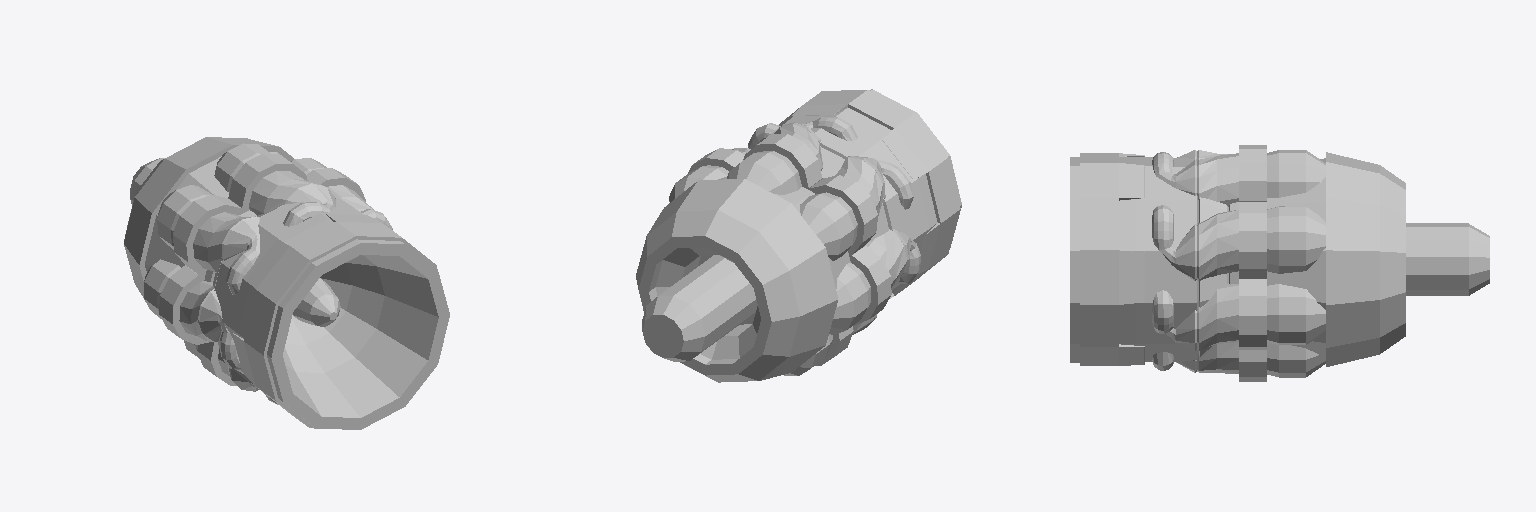
The model's file is Thruster.obj.
The picture shows the model from 3 angles: view 1: azimuth 30°, elevation 25°; view 2: azimuth 150°, elevation 25°; view 3: azimuth 270°, elevation 25°; orthographic projection.
Visible parts, largest first — view 1: eng.onion_Cylinder.004; view 2: eng.onion_Cylinder.004; view 3: eng.onion_Cylinder.004.
Part boxes in pixels (bbox=[...]): eng.onion_Cylinder.004: bbox=[124, 137, 449, 429]; eng.onion_Cylinder.004: bbox=[636, 89, 961, 382]; eng.onion_Cylinder.004: bbox=[1070, 145, 1489, 381].
Bounding box in the file's own units: 1.51 × 1.5 × 2.65.